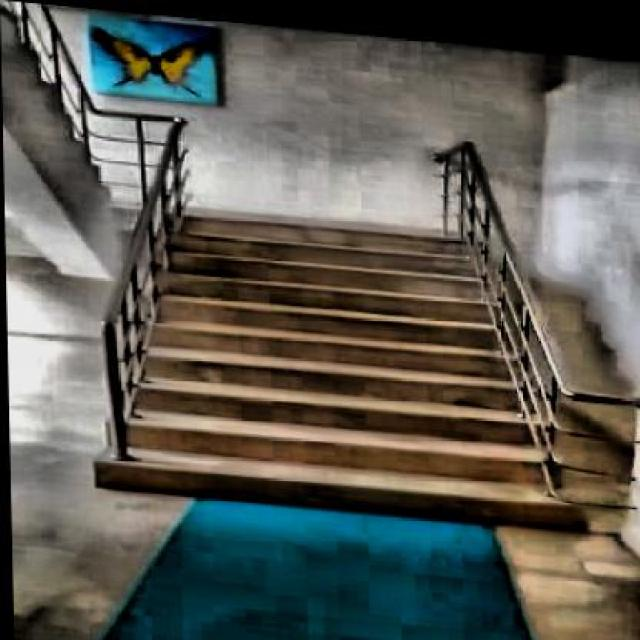stair: (108, 198, 608, 530)
